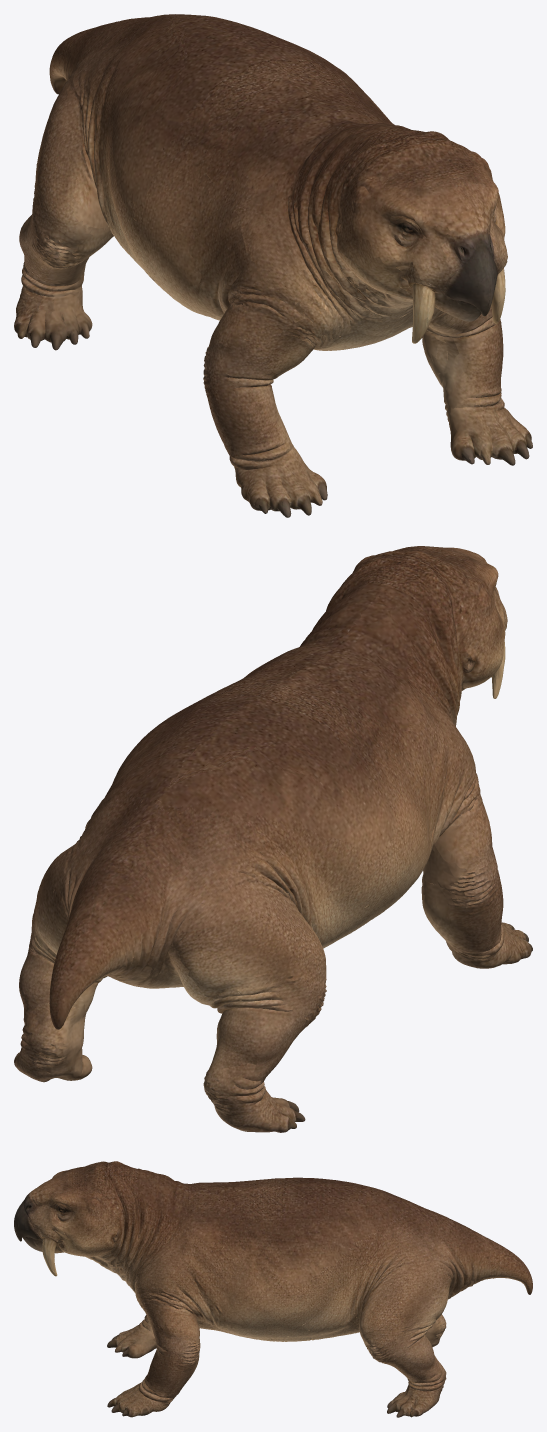
3 views of the same model, one above another, from view 1: azimuth 30°, elevation 25°; view 2: azimuth 150°, elevation 25°; view 3: azimuth 270°, elevation 25° (orthographic). The views are drawn at different scales.
Visible parts, largest first — view 1: Authored orientation; view 2: Authored orientation; view 3: Authored orientation.
Boxes of the visible parts, x1,y1,x2,y2 form: Authored orientation: [14, 14, 532, 517]; Authored orientation: [14, 546, 532, 1132]; Authored orientation: [14, 1161, 532, 1417].
Size of the model in its own units: 0.1727 by 0.2028 by 0.4499.
Materials: 1 (1 with a texture image).
